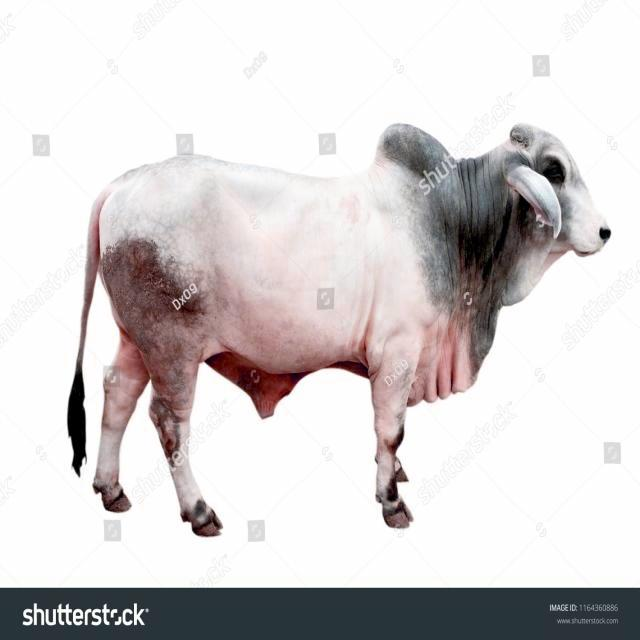cow: (69, 124, 610, 536)
